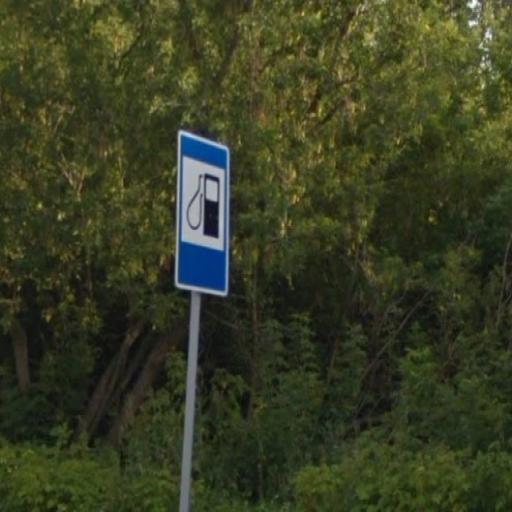traffic_sign: (175, 129, 233, 298)
